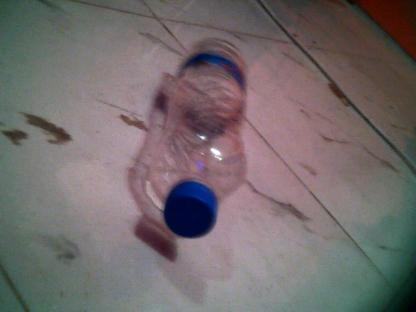Plastic Bottle: (136, 35, 250, 238)
